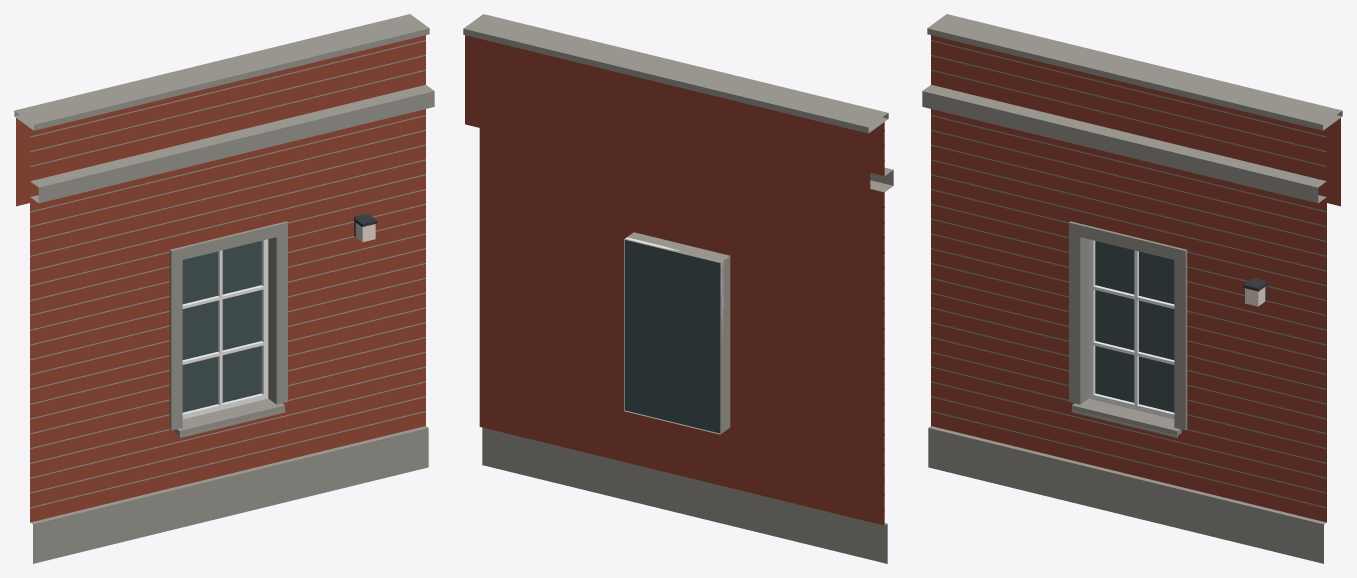
File: base-w2_close.fbx
3 renders of one model, left to right at view 1: azimuth 30°, elevation 25°; view 2: azimuth 150°, elevation 25°; view 3: azimuth 330°, elevation 25°, orthographic. The views are drawn at different scales.
Parts seen in each view (by area): view 1: a2003/700/base-w2_close; view 2: a2003/700/base-w2_close; view 3: a2003/700/base-w2_close.
Part boxes in pixels (box(x1,y1,x2,y2)): a2003/700/base-w2_close: box(14, 14, 434, 563); a2003/700/base-w2_close: box(463, 14, 893, 563); a2003/700/base-w2_close: box(922, 14, 1342, 563).
Bounding box in the file's own units: 4.2 × 4.46 × 0.47.
